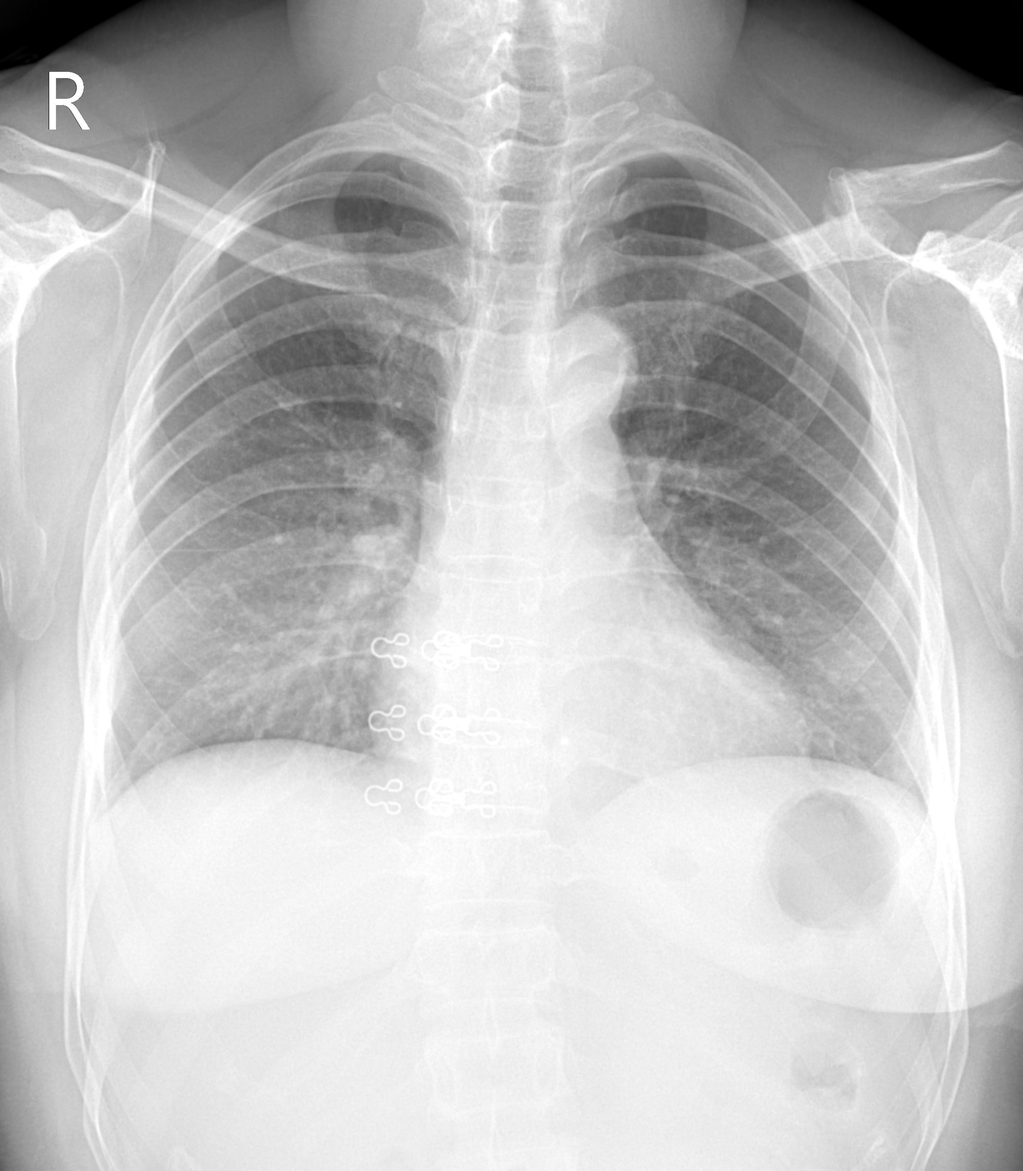Cardiomegaly: (361, 654, 827, 792)
